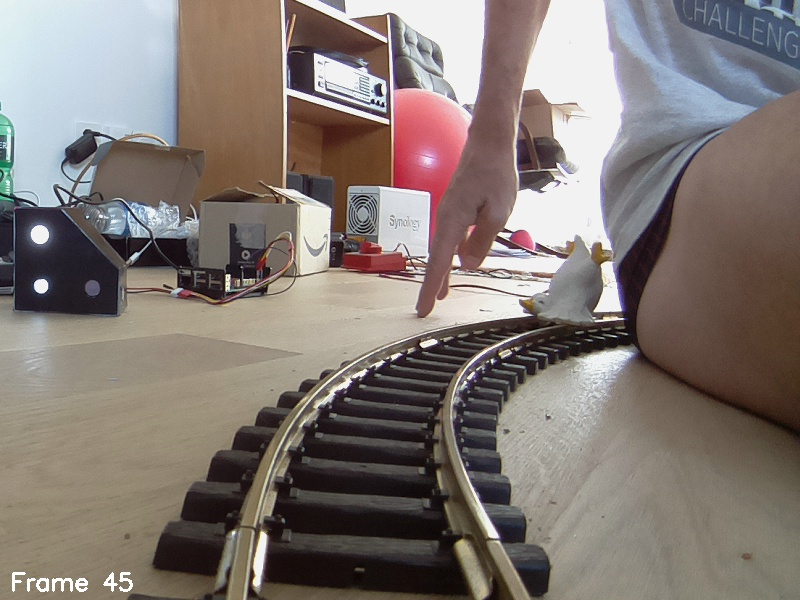Ente: (514, 238, 614, 330)
Fahrt: (14, 206, 130, 319)
